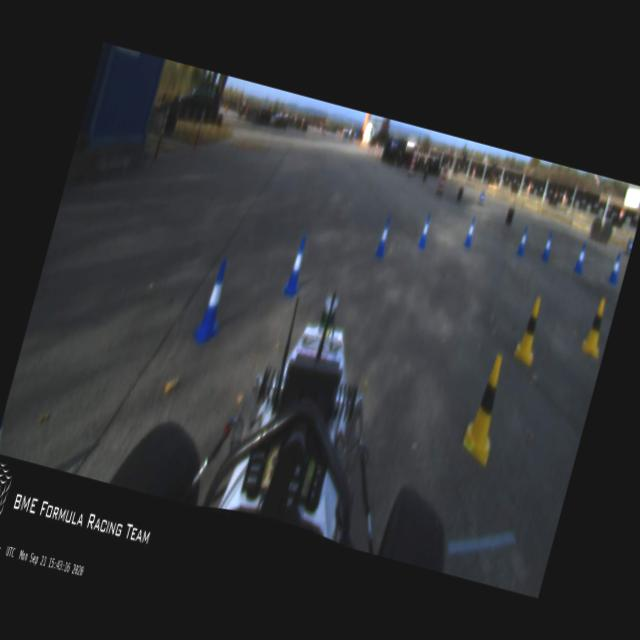blue_cone: (190, 257, 236, 347), (281, 235, 311, 298), (374, 216, 393, 258), (416, 213, 433, 248), (573, 241, 589, 272), (607, 252, 623, 282), (540, 232, 555, 262), (463, 217, 477, 247), (516, 226, 530, 256)
yellow_cone: (458, 351, 514, 466), (512, 295, 548, 365), (580, 296, 612, 358)
